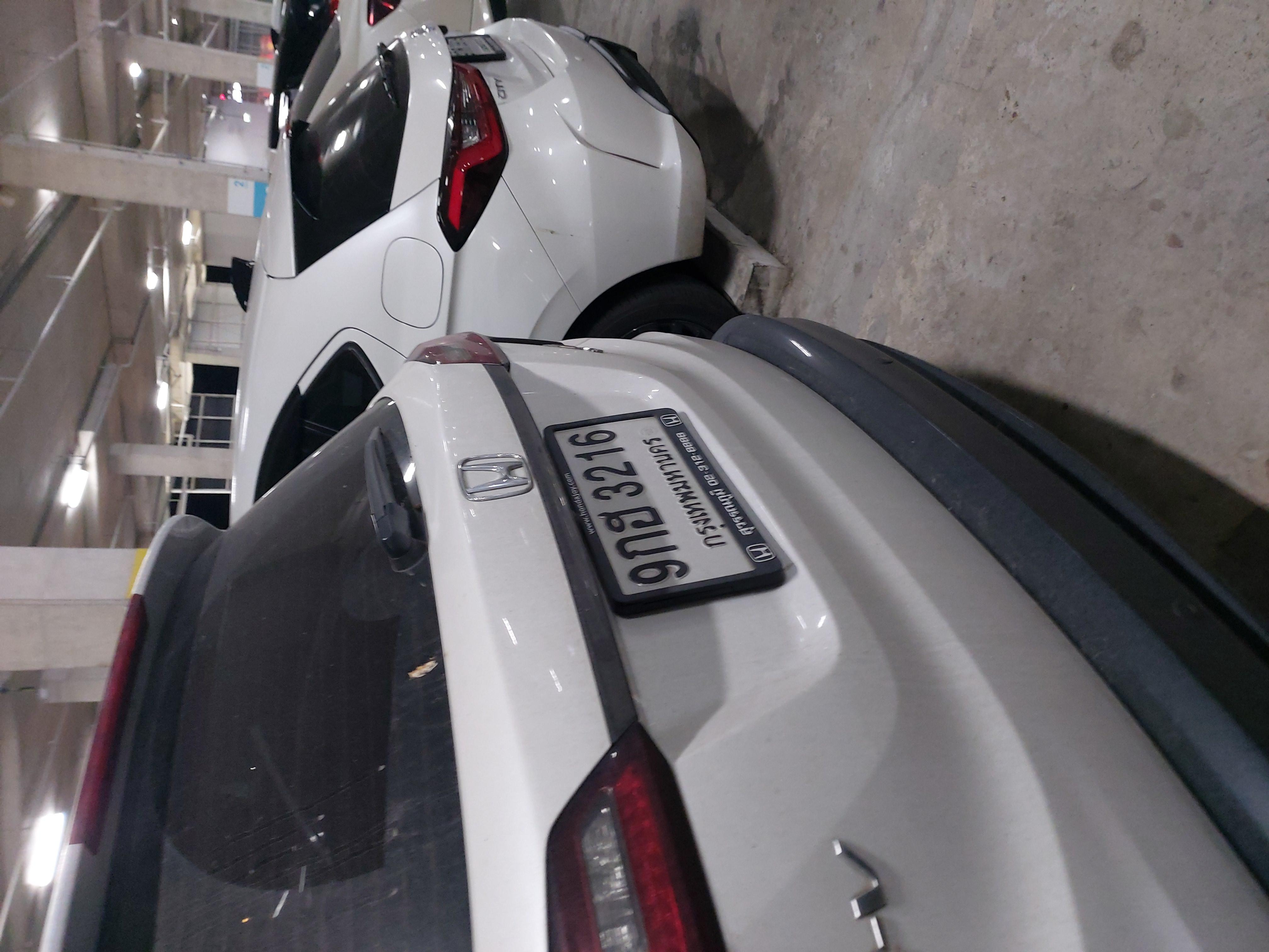license-plate: (477, 413, 715, 567)
